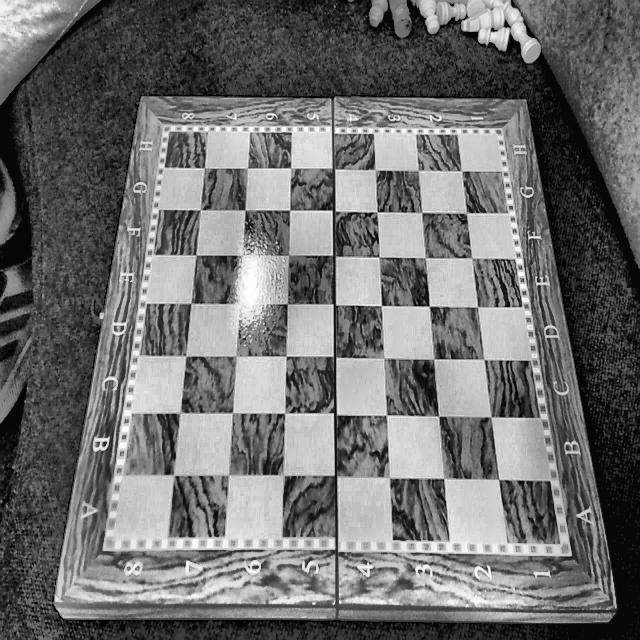chessboard: (114, 131, 560, 542)
